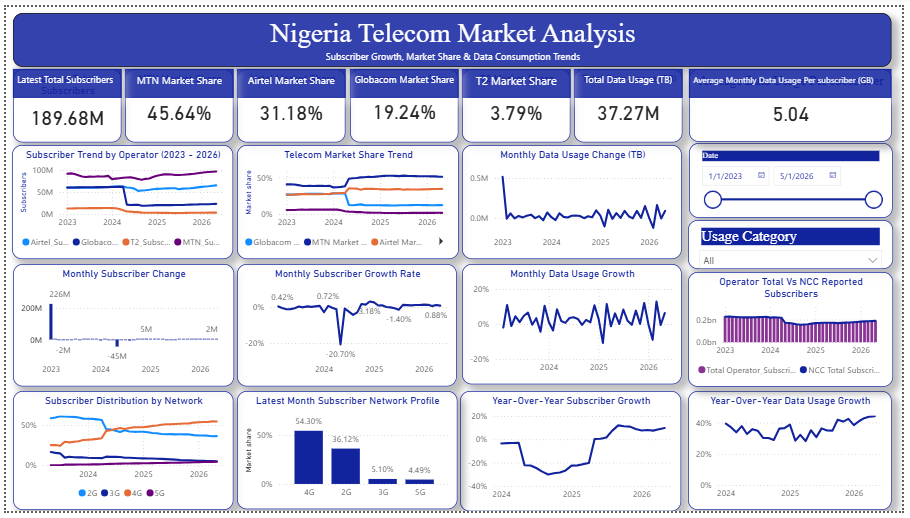

The page's visual inventory and layout, read from the dashboard file:
{"tool":"powerbi","page":{"name":"Telecom Market Overview","canvas":[1280,720],"ordinal":0},"visuals":[{"type":"textbox","title":"Nigeria Telecom Market Analysis","box":[10,8.3,1255,76.7],"z":0},{"type":"card","title":"Latest Total Subscribers","fields":{"Values":["Clean_Data.Latest Total Subscribers"]},"box":[9.8,88.4,155.5,104.8],"z":1000},{"type":"card","title":"MTN Market Share","fields":{"Values":["Clean_Data.MTN Market Share"]},"box":[170.2,88.4,155.5,104.8],"z":2000},{"type":"card","title":"Airtel Market Share","fields":{"Values":["Clean_Data.Airtel Market Share"]},"box":[330.6,88.4,155.5,104.8],"z":3000},{"type":"card","title":"Globacom Market Share","fields":{"Values":["Clean_Data.Globacom Market Share"]},"box":[491,88.4,155.5,104.8],"z":4000},{"type":"card","title":"T2 Market Share","fields":{"Values":["Clean_Data.T2 Market Share"]},"box":[651.5,88.4,155.5,104.8],"z":5000},{"type":"card","title":"Total Data Usage (TB)","fields":{"Values":["Clean_Data.Total Data_Usage (TB)"]},"box":[811.9,88.4,155.5,104.8],"z":6000},{"type":"lineChart","title":"Subscriber Trend by Operator (2023 - 2026)","fields":{"Y":["Clean_Data.Airtel_Subscribers","Clean_Data.Globacom_Subscribers","Clean_Data.T2_Subscribers","Clean_Data.MTN_Subscribers"],"Category":["DateTable.Date"]},"box":[8.6,197.1,315.7,162.9],"z":7000},{"type":"textbox","box":[811.9,88.4,155.5,40.9],"z":8000},{"type":"textbox","box":[651.5,88.4,155.5,40.9],"z":9000},{"type":"textbox","box":[491,88.4,155.5,40.9],"z":10000},{"type":"textbox","box":[330.6,88.4,155.5,40.9],"z":11000},{"type":"textbox","box":[170.2,88.4,155.5,40.9],"z":12000},{"type":"textbox","box":[9.8,88.4,155.5,40.9],"z":13000},{"type":"lineChart","title":"Telecom Market Share Trend","fields":{"Y":["Clean_Data.Globacom Market Share","Clean_Data.MTN Market Share","Clean_Data.Airtel Market Share","Clean_Data.T2 Market Share"],"Category":["DateTable.Date"]},"box":[330,197.1,317.1,162.9],"z":14000},{"type":"clusteredColumnChart","title":"Monthly Subscriber Change ","fields":{"Y":["Clean_Data.Monthly Subscriber_Change"],"Category":["DateTable.Date"]},"box":[10.3,367.3,315.9,174.9],"z":15000},{"type":"lineChart","title":"Monthly Subscriber Growth Rate","fields":{"Y":["Clean_Data.Monthly Subscriber_Growth (%)"],"Category":["DateTable.Date"]},"box":[330.6,367.3,314.4,174.9],"z":16000},{"type":"lineChart","title":"Monthly Data Usage Change (TB)","fields":{"Y":["Clean_Data.Monthly Data_Usage Change (TB)"],"Category":["DateTable.Date"]},"box":[651.4,197.1,314.3,162.9],"z":17000},{"type":"lineChart","title":"Monthly Data Usage Growth","fields":{"Y":["Clean_Data.Monthly Data_Usage Growth (%)"],"Category":["DateTable.Date"]},"box":[651.3,367.1,313.7,171.6],"z":18000},{"type":"lineChart","title":"Year-Over-Year Subscriber Growth","fields":{"Y":["Clean_Data.Year-Over-Year Subscriber_Growth (%)"],"Category":["DateTable.Date"]},"box":[648.4,548.6,316.5,171.6],"z":19000},{"type":"lineChart","title":"Year-Over-Year Data Usage Growth","fields":{"Y":["Clean_Data.Year-Over-Year Data_Usage_Growth (%)"],"Category":["DateTable.Date"]},"box":[974.2,548.1,290.9,170.4],"z":20000},{"type":"lineChart","title":"Subscriber Distribution by Network ","fields":{"Y":["Sum(Consumption Category.Market Share)"],"Series":["Consumption Category.Usage Category"],"Category":["Consumption Category.Month"]},"box":[9.8,548.6,315.1,170.2],"z":21000},{"type":"clusteredColumnChart","title":"Latest Month Subscriber Network Profile","fields":{"Category":["Consumption Category.Usage Category"],"Y":["Sum(Consumption Category.Market Share)"]},"box":[330.5,548.6,315.1,168.8],"z":22000},{"type":"slicer","fields":{"Values":["DateTable.Date"]},"box":[975.7,194.3,291.4,107.1],"z":23000},{"type":"slicer","fields":{"Values":["Consumption Category.Usage Category"]},"box":[974.3,304.3,292.9,70],"z":24000},{"type":"lineClusteredColumnComboChart","title":"Operator Total Vs NCC Reported Subscribers ","fields":{"Category":["DateTable.Date"],"Y":["Clean_Data.Total Operator_Subscribers"],"Y2":["Clean_Data.NCC Total Subscribers"]},"box":[974.3,378.6,292.9,164.3],"z":25000},{"type":"card","title":"Average Data Usage Per subscriber","fields":{"Values":["Clean_Data.Average Data Usage Per Subscriber (GB)"]},"box":[975.7,88.6,290,104.3],"z":26000},{"type":"textbox","box":[975.7,88.2,289.5,41.1],"z":27000}]}

Visuals, with their boxes in screenshot pixels (x1, y1, x2, y2), scaled from the page's 1280x720 canvas onto the 910x518 screenshot:
"Nigeria Telecom Market Analysis" textbox: 7/6/899/61
"Latest Total Subscribers" card: 7/64/118/139
"MTN Market Share" card: 121/64/232/139
"Airtel Market Share" card: 235/64/346/139
"Globacom Market Share" card: 349/64/460/139
"T2 Market Share" card: 463/64/574/139
"Total Data Usage (TB)" card: 577/64/688/139
"Subscriber Trend by Operator (2023 - 2026)" lineChart: 6/142/231/259
textbox: 577/64/688/93
textbox: 463/64/574/93
textbox: 349/64/460/93
textbox: 235/64/346/93
textbox: 121/64/232/93
textbox: 7/64/118/93
"Telecom Market Share Trend" lineChart: 235/142/460/259
"Monthly Subscriber Change " clusteredColumnChart: 7/264/232/390
"Monthly Subscriber Growth Rate" lineChart: 235/264/459/390
"Monthly Data Usage Change (TB)" lineChart: 463/142/687/259
"Monthly Data Usage Growth" lineChart: 463/264/686/388
"Year-Over-Year Subscriber Growth" lineChart: 461/395/686/517
"Year-Over-Year Data Usage Growth" lineChart: 693/394/899/517
"Subscriber Distribution by Network " lineChart: 7/395/231/517
"Latest Month Subscriber Network Profile" clusteredColumnChart: 235/395/459/516
slicer - DateTable.Date: 694/140/901/217
slicer - Consumption Category.Usage Category: 693/219/901/269
"Operator Total Vs NCC Reported Subscribers " lineClusteredColumnComboChart: 693/272/901/391
"Average Data Usage Per subscriber" card: 694/64/900/139
textbox: 694/63/899/93
